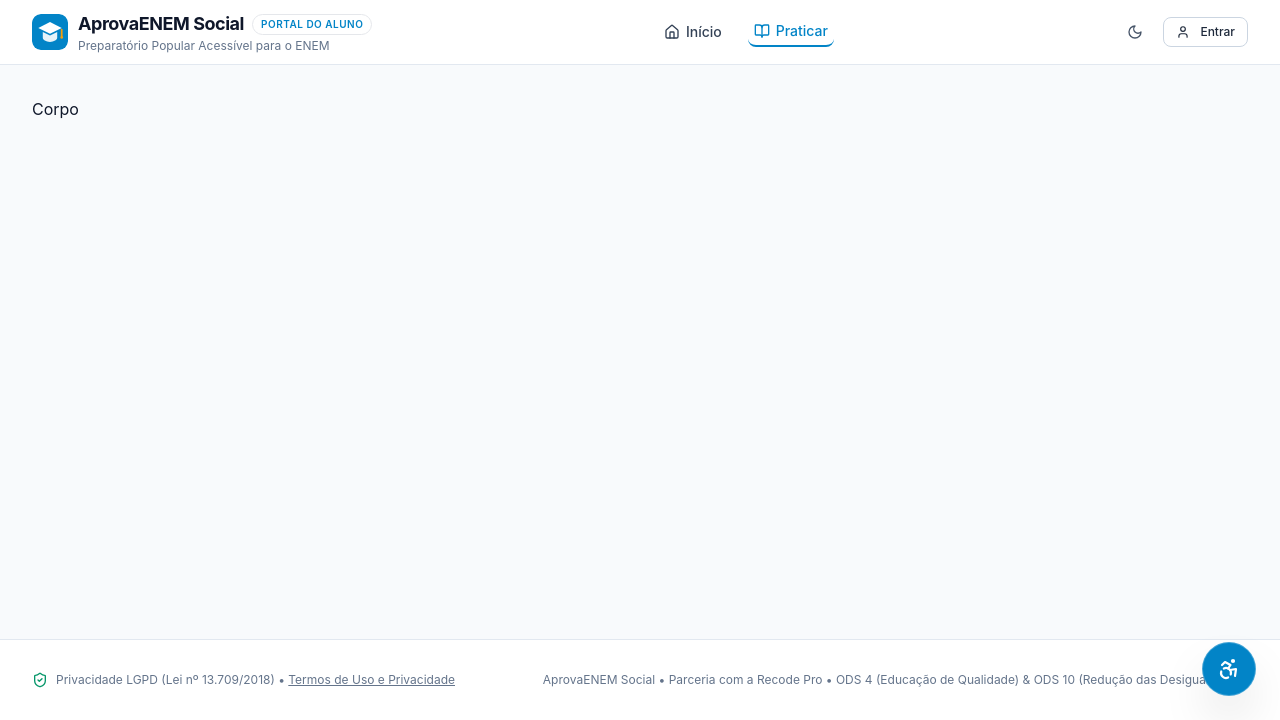
Test case: RootLayout component › should open Auth modal when clicking Entrar in header
Click the button "Entrar". click: (1206, 32)
box: left=1163, top=17, right=1248, bottom=47
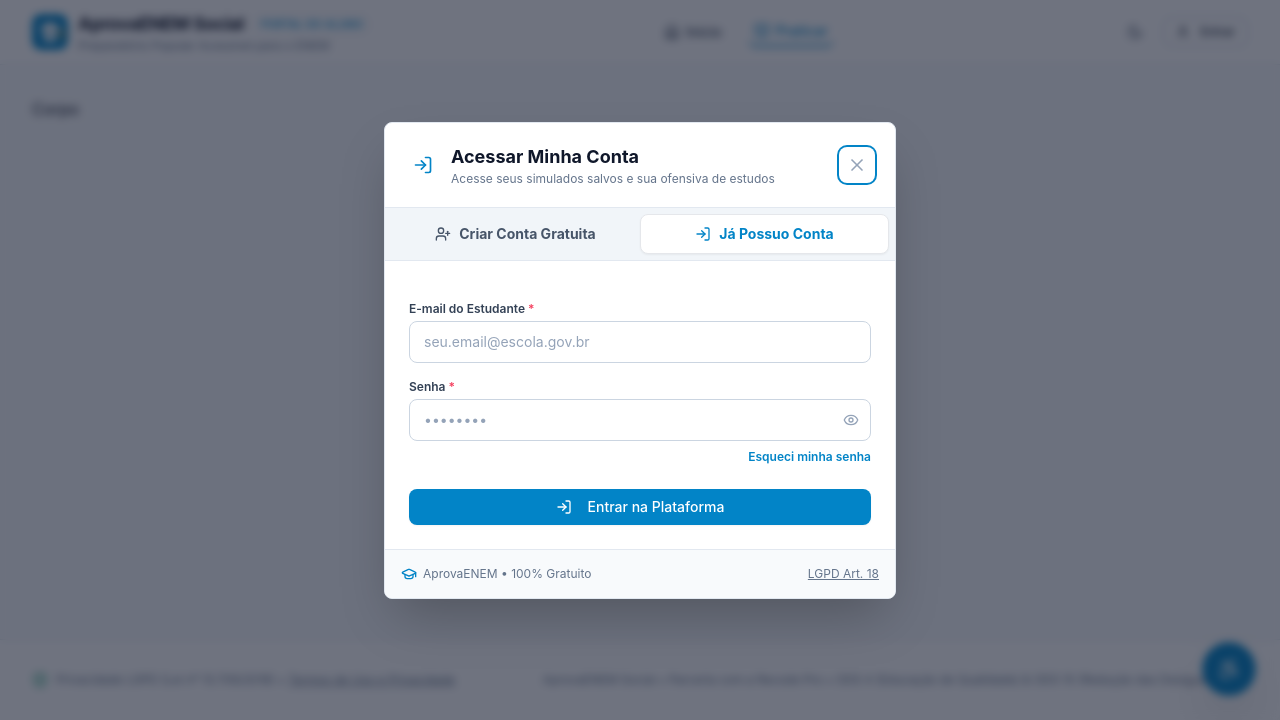
Result: the dialog "Acessar Minha Conta" is shown
